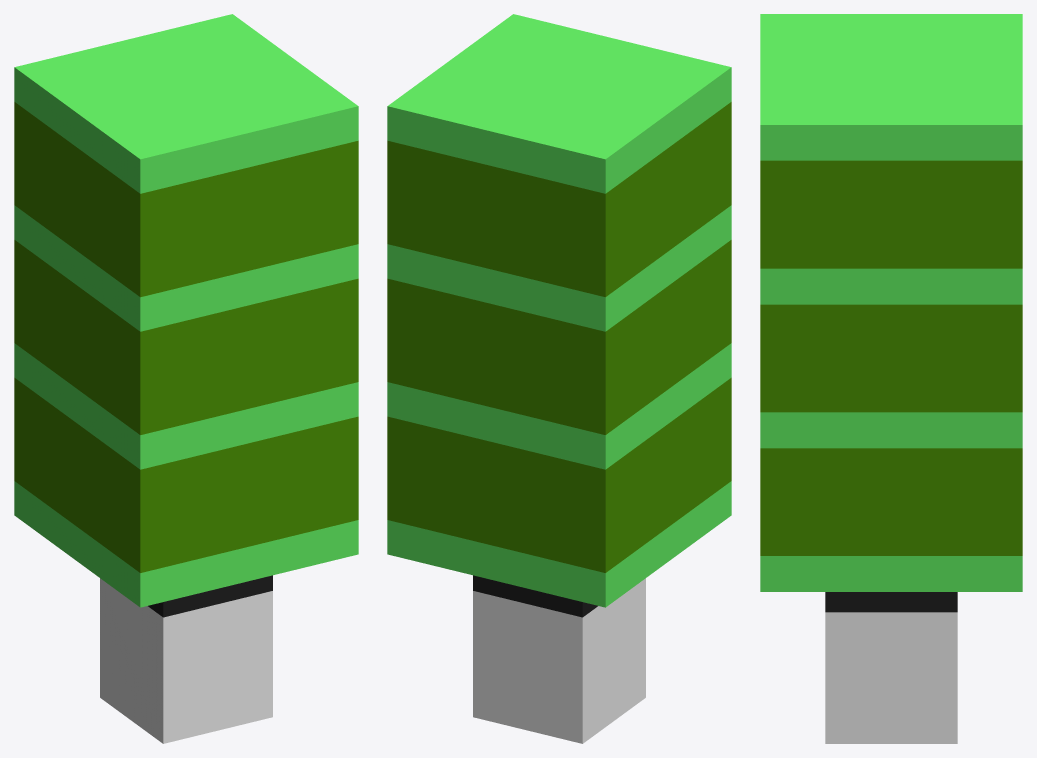
Rendered from tree3.fbx.
The picture shows the model from 3 angles, left to right: view 1: azimuth 30°, elevation 25°; view 2: azimuth 150°, elevation 25°; view 3: azimuth 270°, elevation 25°; orthographic projection. The views are drawn at different scales.
Parts seen in each view (by area): view 1: Model; view 2: Model; view 3: Model.
Part boxes in pixels (left/top/right/bottom): Model: left=14, top=14, right=358, bottom=743; Model: left=387, top=14, right=731, bottom=743; Model: left=760, top=14, right=1022, bottom=743.
Size of the model in its own units: 0.993 by 2.7 by 0.993.
